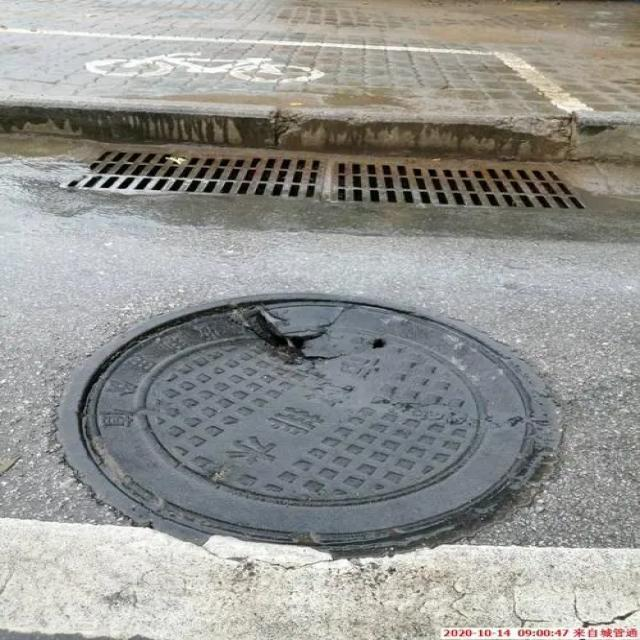manhole: (58, 294, 558, 552)
